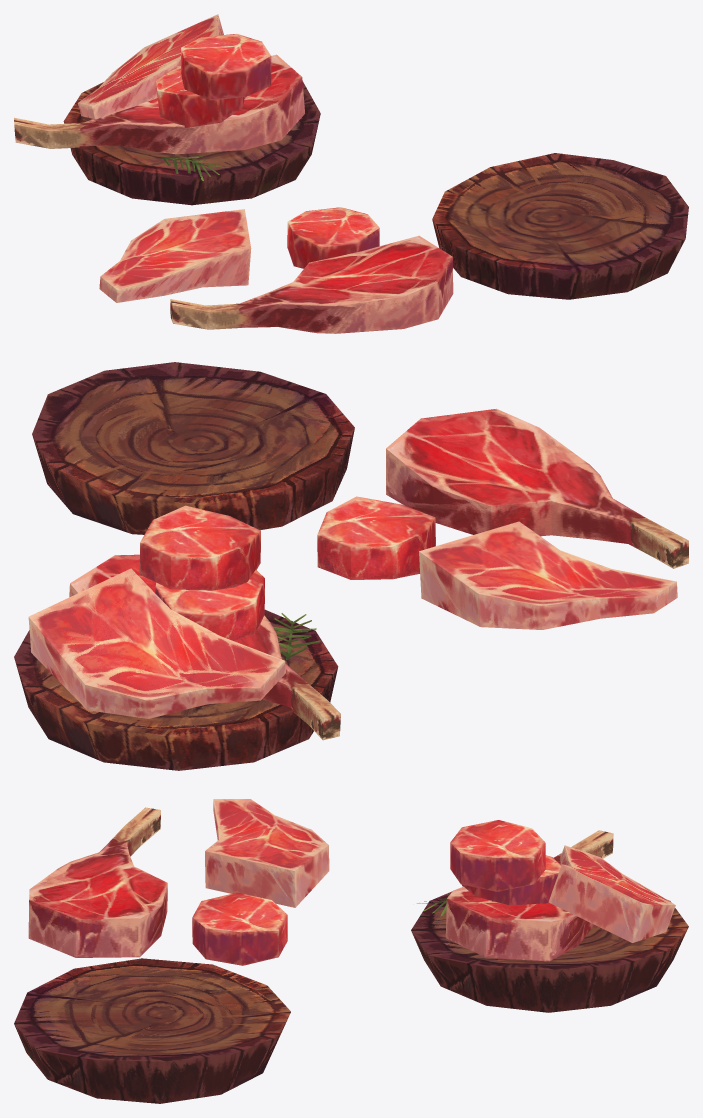
Rendered from meat.glb.
The picture shows the model from 3 angles, top to bottom: view 1: azimuth 30°, elevation 25°; view 2: azimuth 150°, elevation 25°; view 3: azimuth 270°, elevation 25°; orthographic projection. The views are drawn at different scales.
Parts seen in each view (by area): view 1: Object_2; view 2: Object_2; view 3: Object_2.
Part boxes in pixels (x1,y1,x2,y2): Object_2: (14,14,688,333); Object_2: (14,362,688,770); Object_2: (14,799,688,1103).
Bounding box in the file's own units: 4.55 × 1.01 × 4.86.
Materials: 1 (1 with a texture image).
